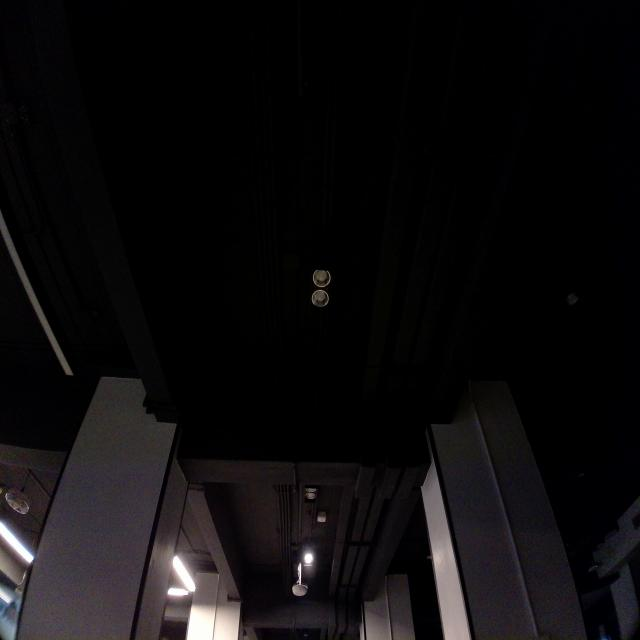lamp1_off: (302, 256, 341, 324)
